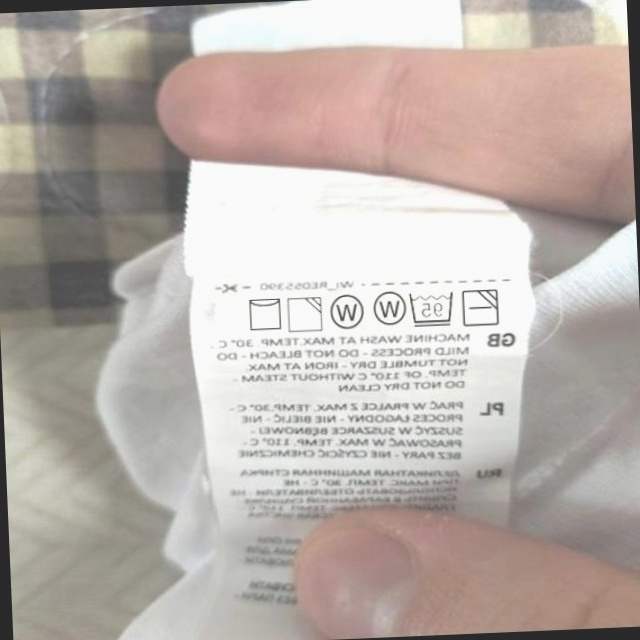95C: (407, 288, 456, 328)
dry_flat_in_shade: (461, 285, 501, 329)
line_dry: (244, 294, 284, 333)
shade_dry: (285, 294, 325, 334)
wet_clean: (328, 292, 366, 333), (370, 286, 406, 328)
